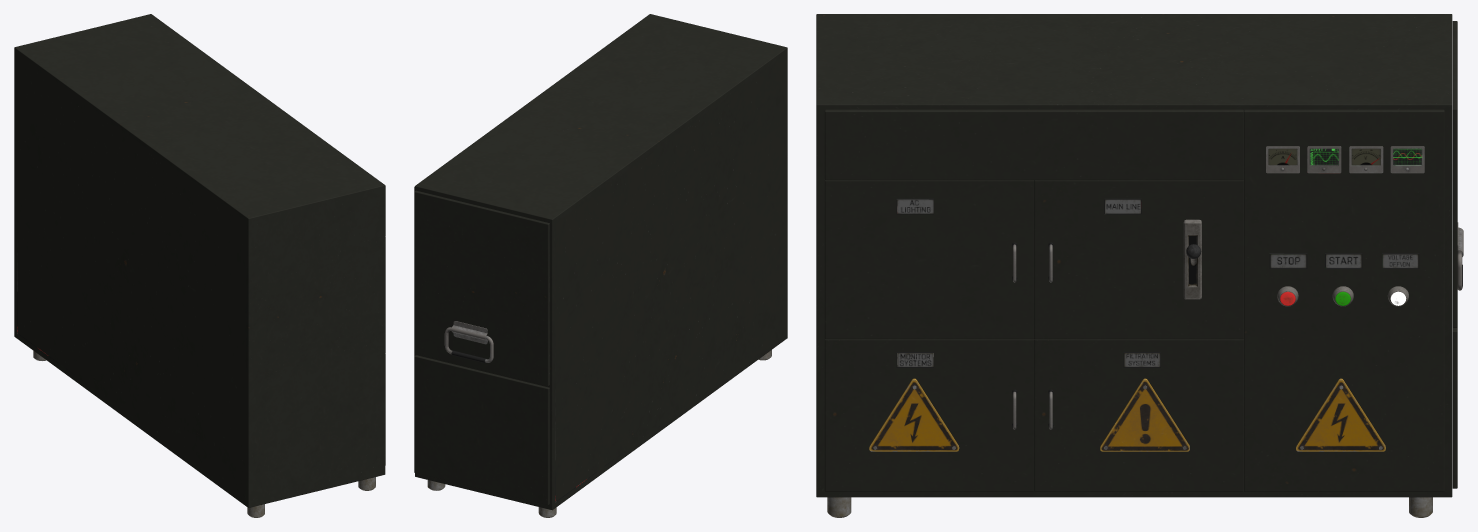
Rendered from SM_Generator.fbx.
3 renders of one model, left to right at view 1: azimuth 30°, elevation 25°; view 2: azimuth 150°, elevation 25°; view 3: azimuth 270°, elevation 25°, orthographic. The views are drawn at different scales.
Parts seen in each view (by area): view 1: SM_Generator_LOD0; view 2: SM_Generator_LOD0; view 3: SM_Generator_LOD0.
Boxes of the visible parts, <box> form: SM_Generator_LOD0: <box>14,14,385,517</box>; SM_Generator_LOD0: <box>414,14,787,517</box>; SM_Generator_LOD0: <box>816,14,1463,517</box>.
Size of the model in its own units: 112 by 252 by 179.
1 material, 1 textured.
